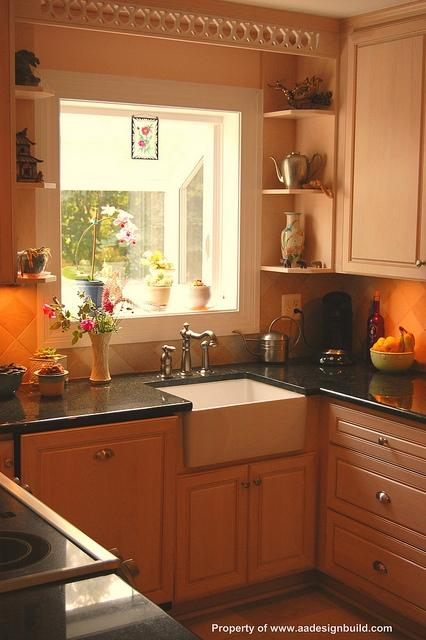banana: (400, 326, 414, 353), (400, 326, 415, 348), (397, 330, 405, 352)
orange: (383, 338, 400, 352), (372, 342, 382, 352), (377, 337, 386, 346), (385, 336, 395, 339)
